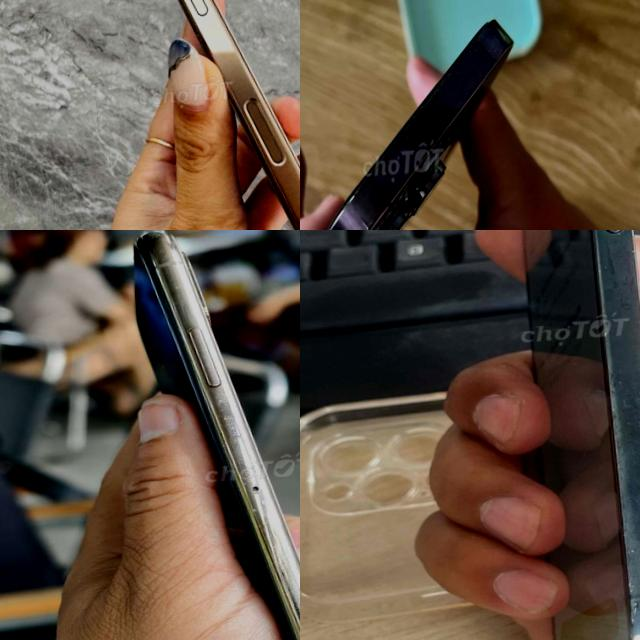scratch: (567, 230, 640, 468), (198, 383, 268, 506), (240, 499, 273, 525), (165, 272, 190, 306), (131, 230, 173, 249), (157, 356, 174, 378)
